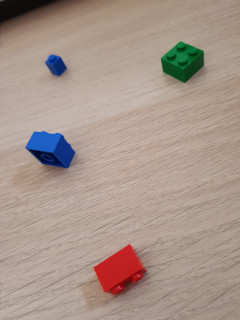1x1 blue: (43, 53, 68, 78)
1x2 red: (91, 242, 149, 293)
2x2 blue: (27, 131, 76, 168)
2x2 green: (161, 41, 204, 83)
